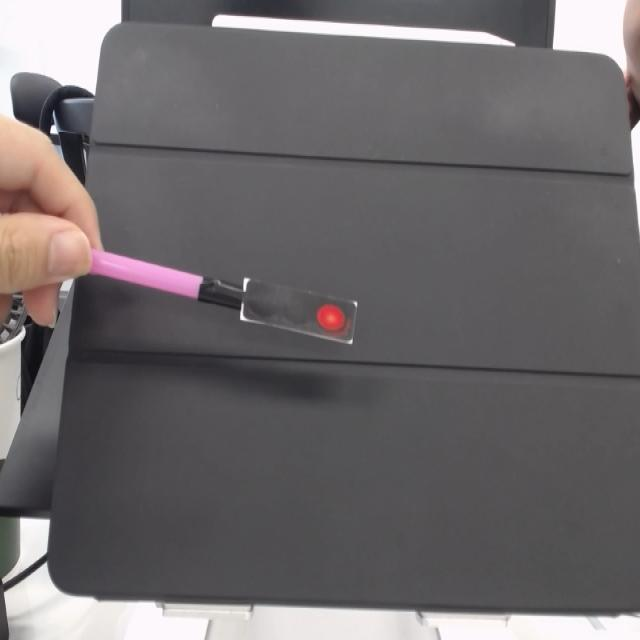traffic light: (240, 277, 360, 348)
